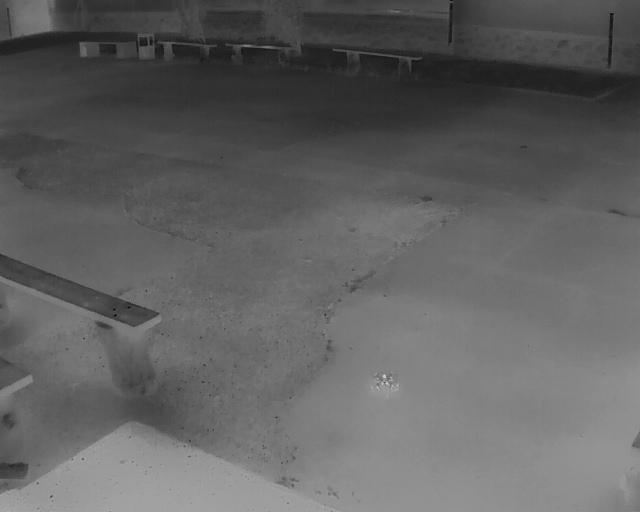drone: (366, 356, 409, 408)
